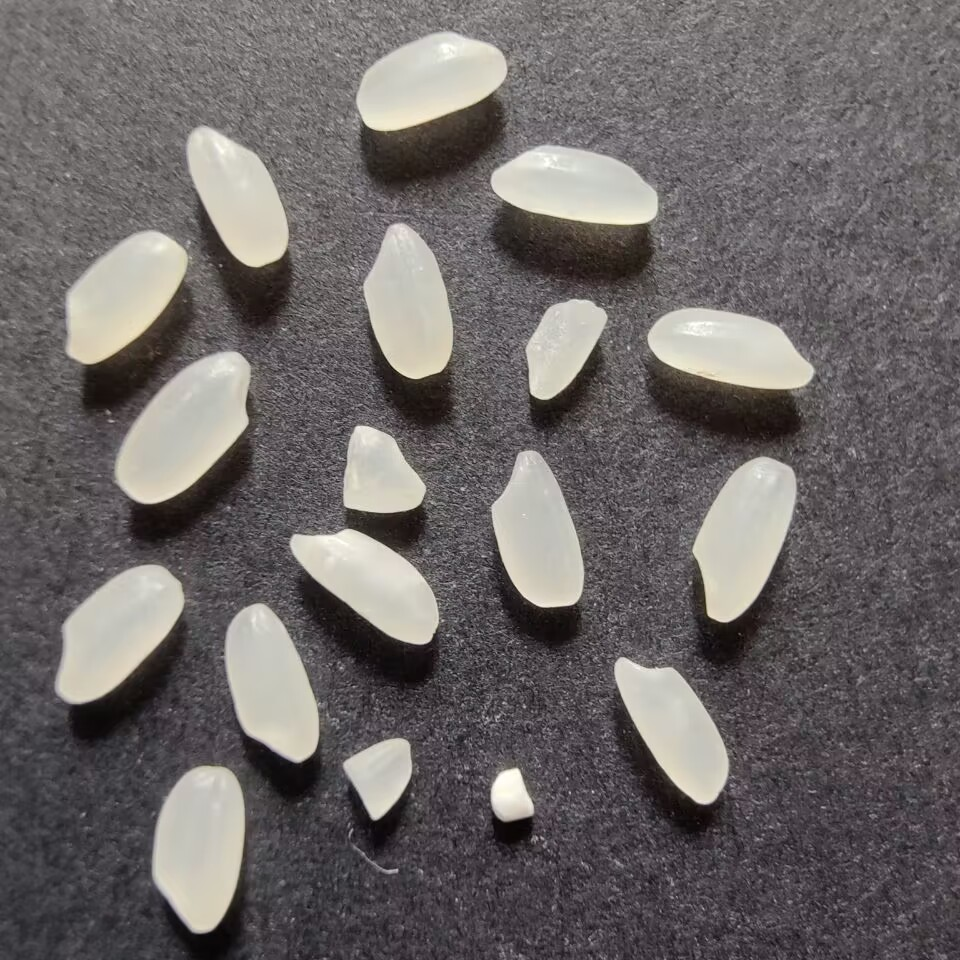broken: (516, 294, 612, 409), (337, 420, 431, 516), (336, 736, 423, 825), (489, 760, 537, 830)
rice: (111, 345, 261, 507), (45, 559, 188, 710), (279, 524, 446, 652), (605, 651, 735, 810), (686, 451, 799, 631), (57, 229, 193, 370), (484, 441, 590, 619), (144, 764, 252, 938), (348, 24, 510, 138), (356, 219, 465, 383), (220, 599, 325, 767), (643, 304, 822, 399), (181, 122, 294, 270), (484, 140, 666, 230)
